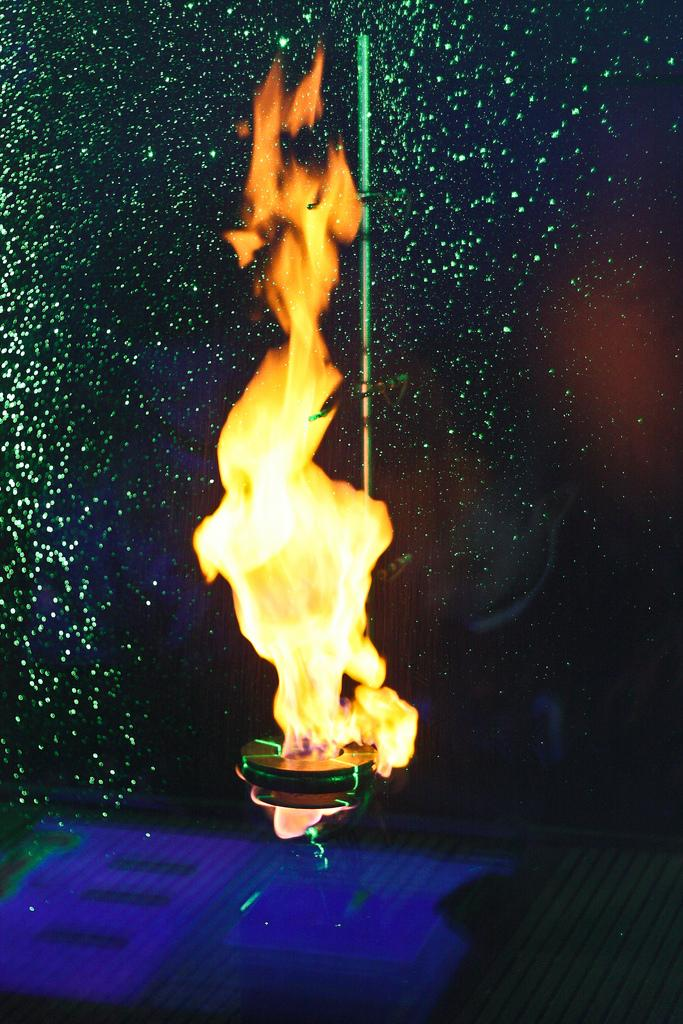fire: (228, 490, 395, 730), (240, 115, 345, 462)
